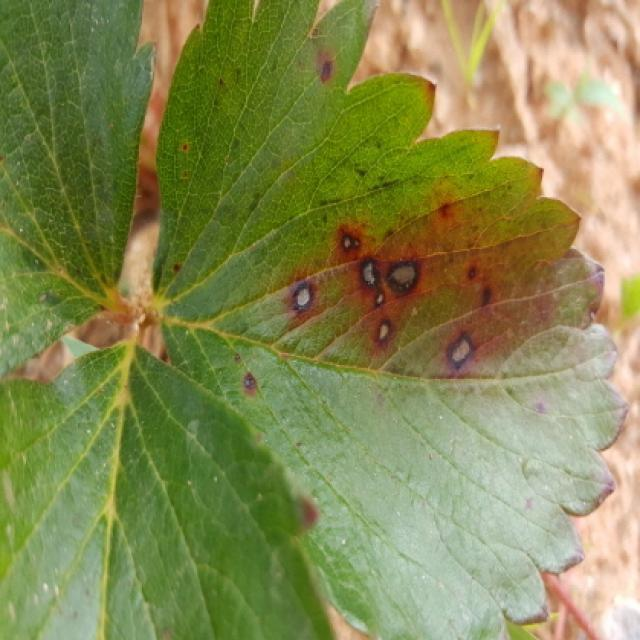Leaf Spot: (150, 0, 627, 638)
